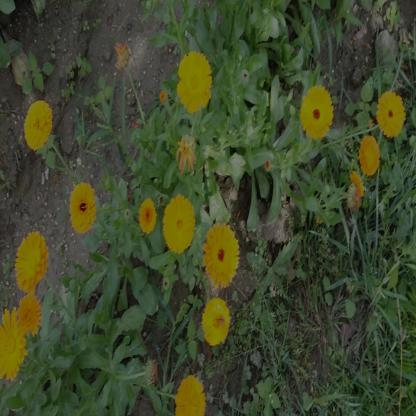marigold: (179, 52, 210, 112), (205, 226, 237, 284), (15, 234, 44, 293), (0, 304, 23, 376), (163, 197, 193, 251), (303, 88, 332, 137), (203, 298, 230, 345), (69, 182, 95, 230), (25, 100, 51, 146), (380, 91, 406, 135), (176, 375, 204, 415), (17, 294, 38, 335), (360, 137, 379, 174), (139, 198, 156, 236)
